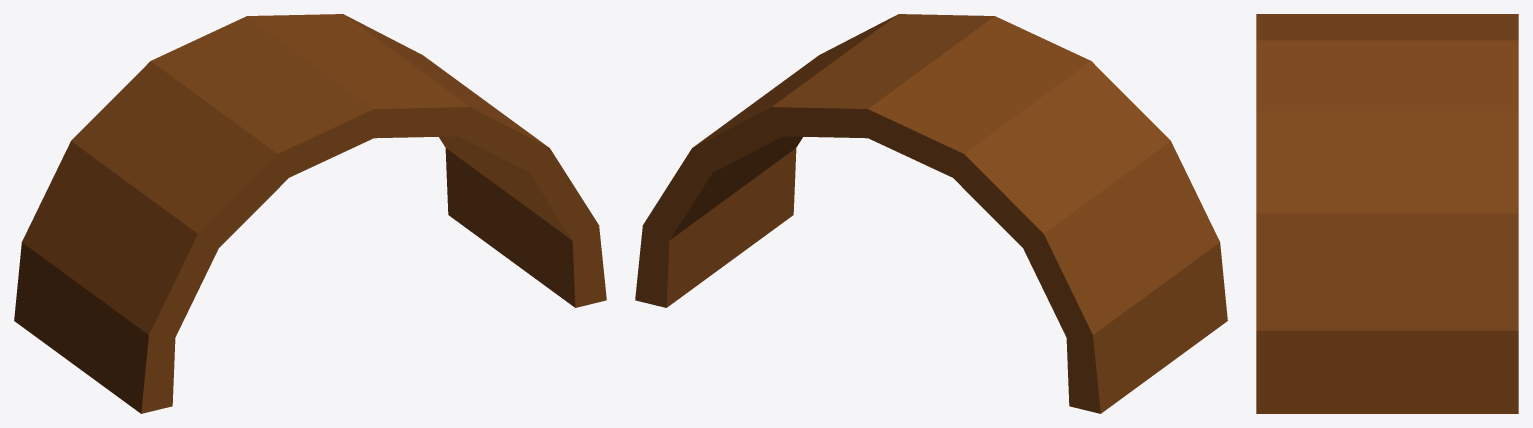
File: Pieza Tunel.fbx
3 views of the same model, side by side, from view 1: azimuth 30°, elevation 25°; view 2: azimuth 150°, elevation 25°; view 3: azimuth 270°, elevation 25° (orthographic). The views are drawn at different scales.
Parts seen in each view (by area): view 1: Cylinder; view 2: Cylinder; view 3: Cylinder.
Part boxes in pixels (<box>): Cylinder: <box>14,14,606,413</box>; Cylinder: <box>635,14,1227,413</box>; Cylinder: <box>1256,14,1518,413</box>.
Bounding box in the file's own units: 1376 × 701 × 651.
